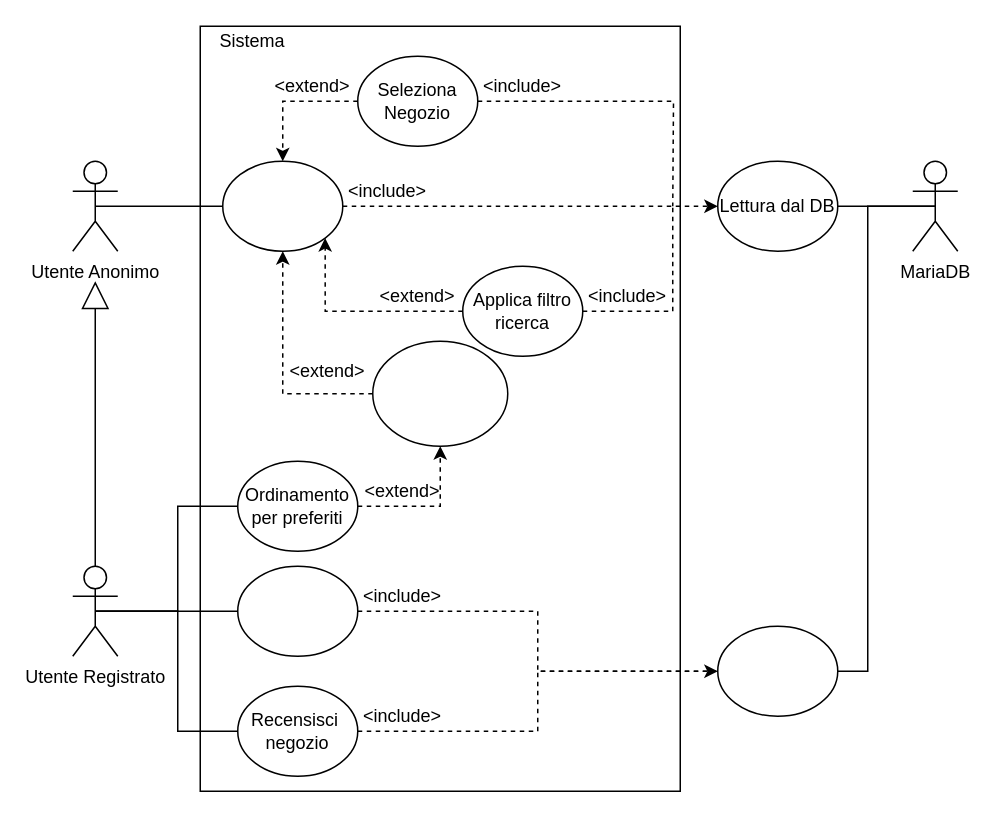
Image size: 996x818. Some labels were removed from this diagram. The shapes that lost their labels are listed below. From the top down, each one's centre as x and y in pixels, then its label:
At (x=282, y=205): "Apri lista negozi".
At (x=439, y=393): "Applica metodo ordinamento".
At (x=297, y=610): "Segna negozio come preferito".
At (x=777, y=670): "Scrittura sul DB".
